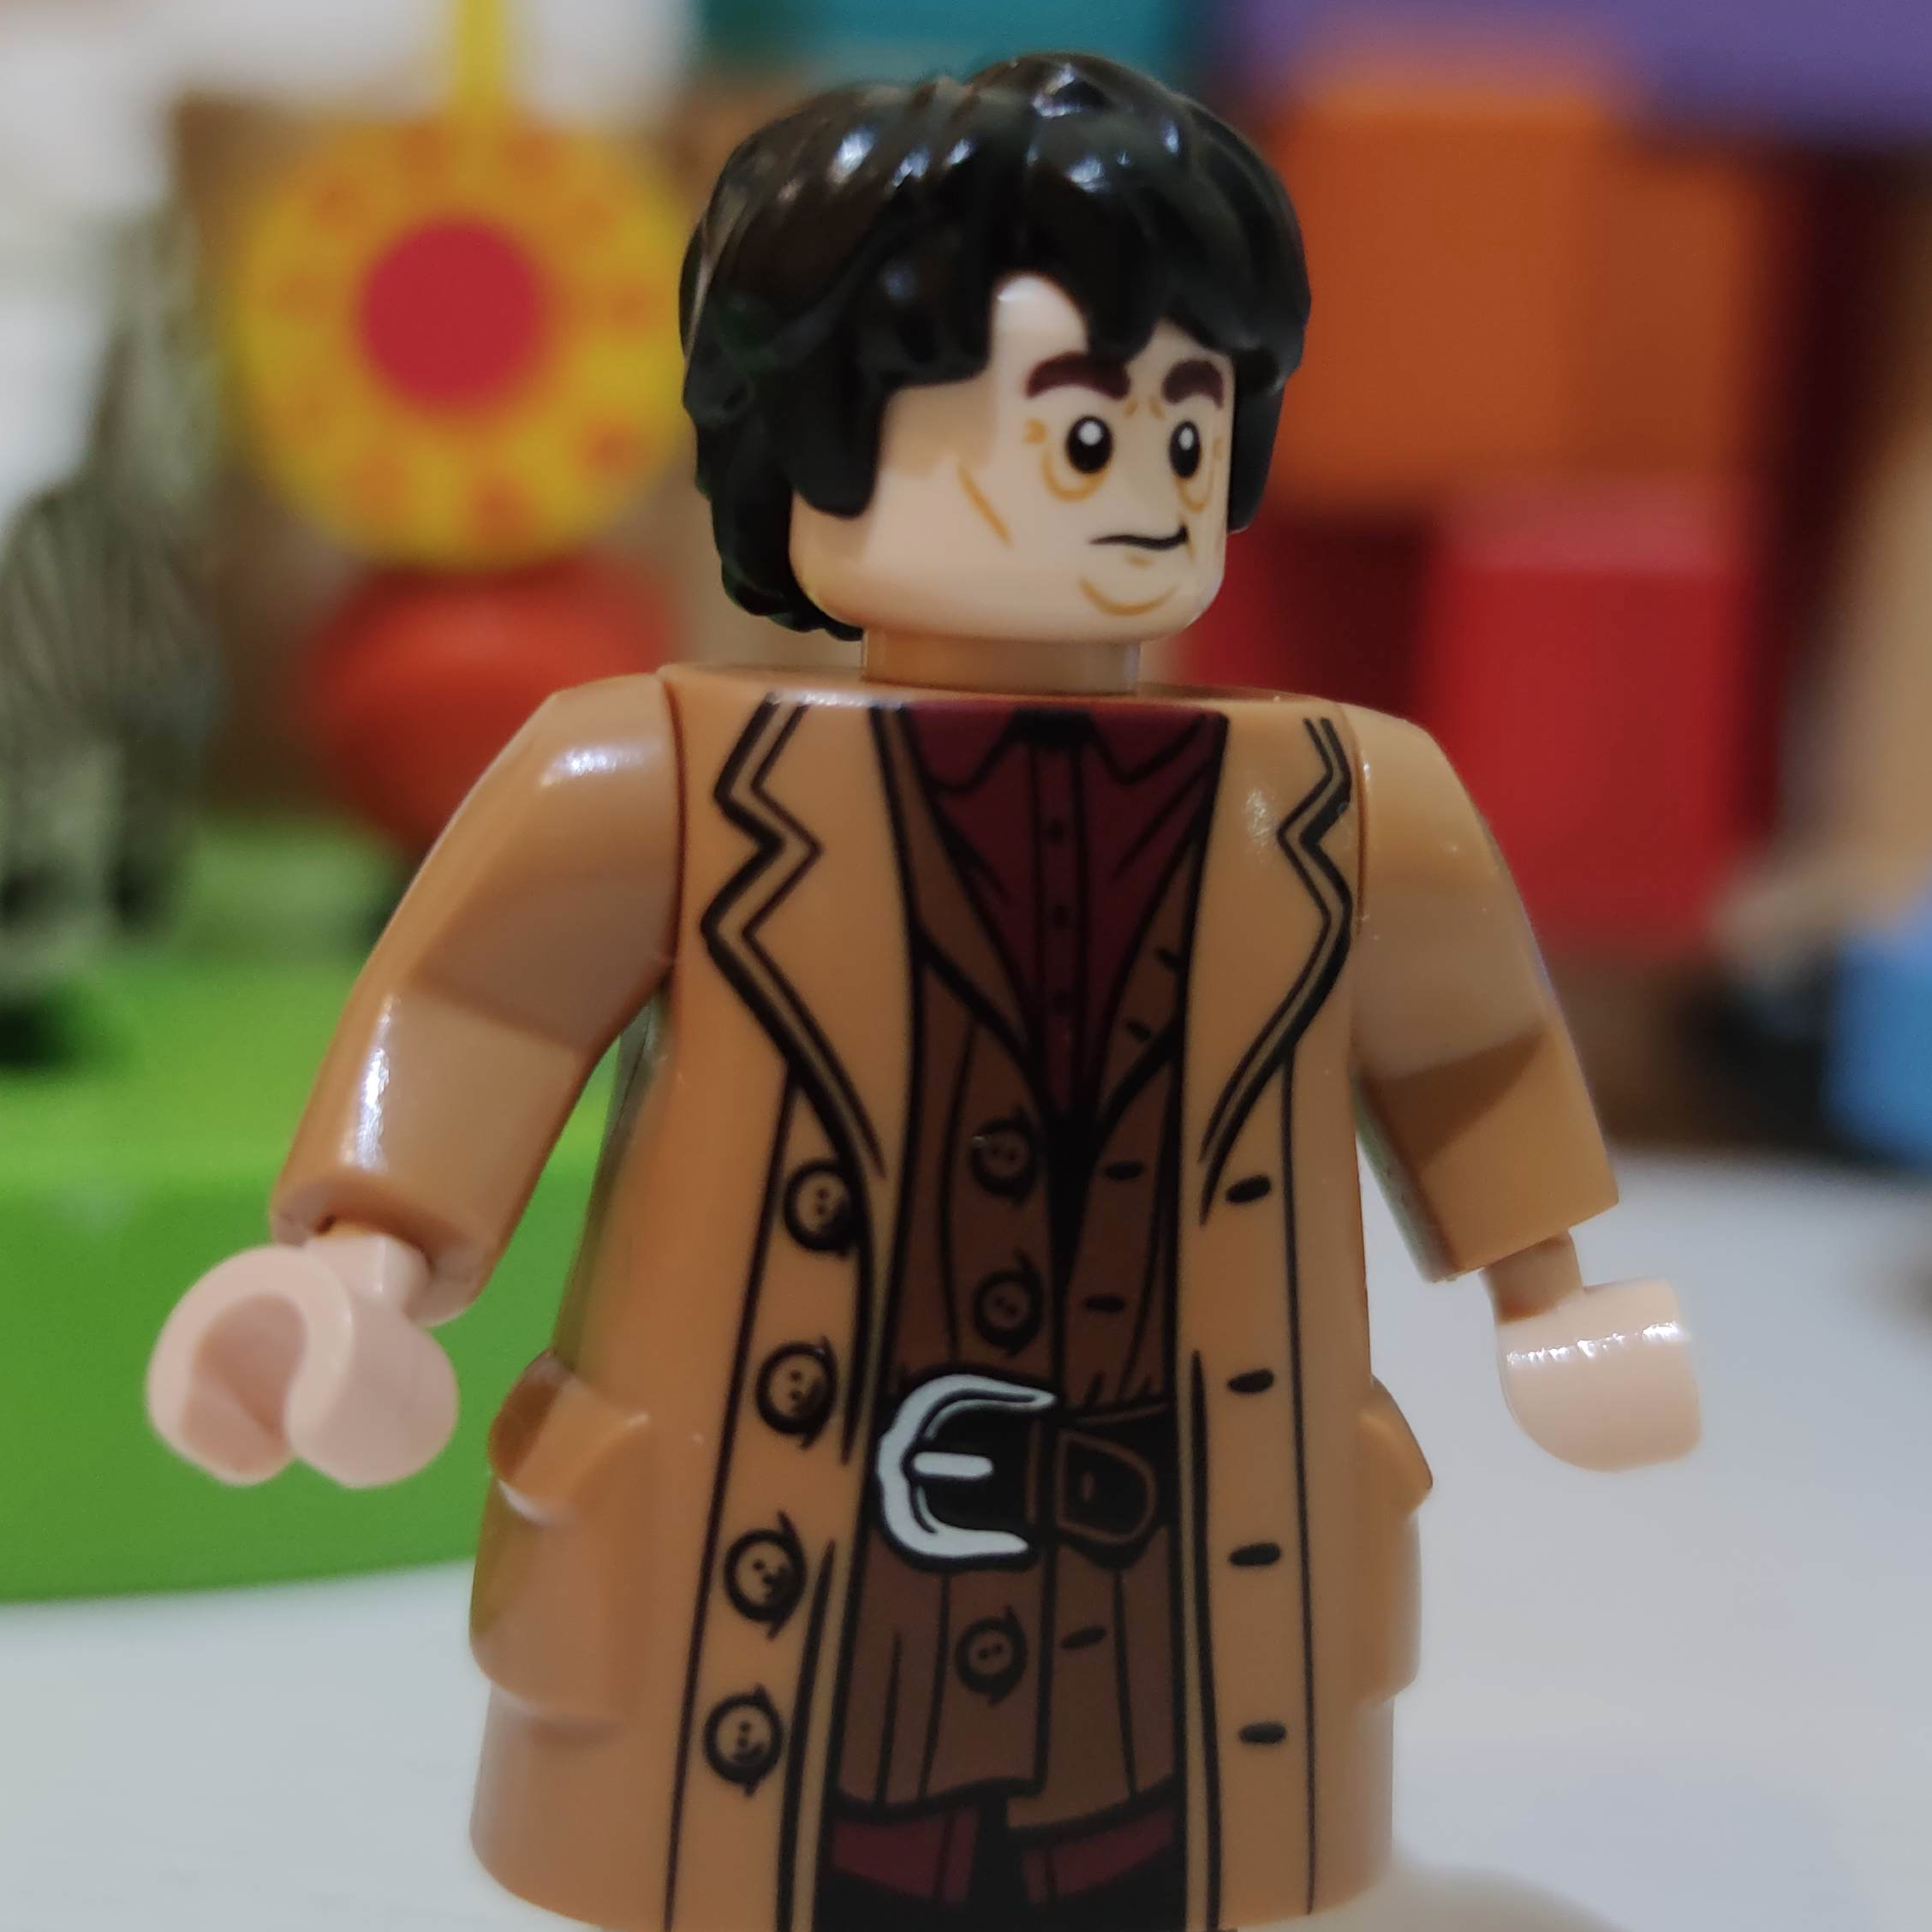lego: (147, 60, 1702, 1932)
